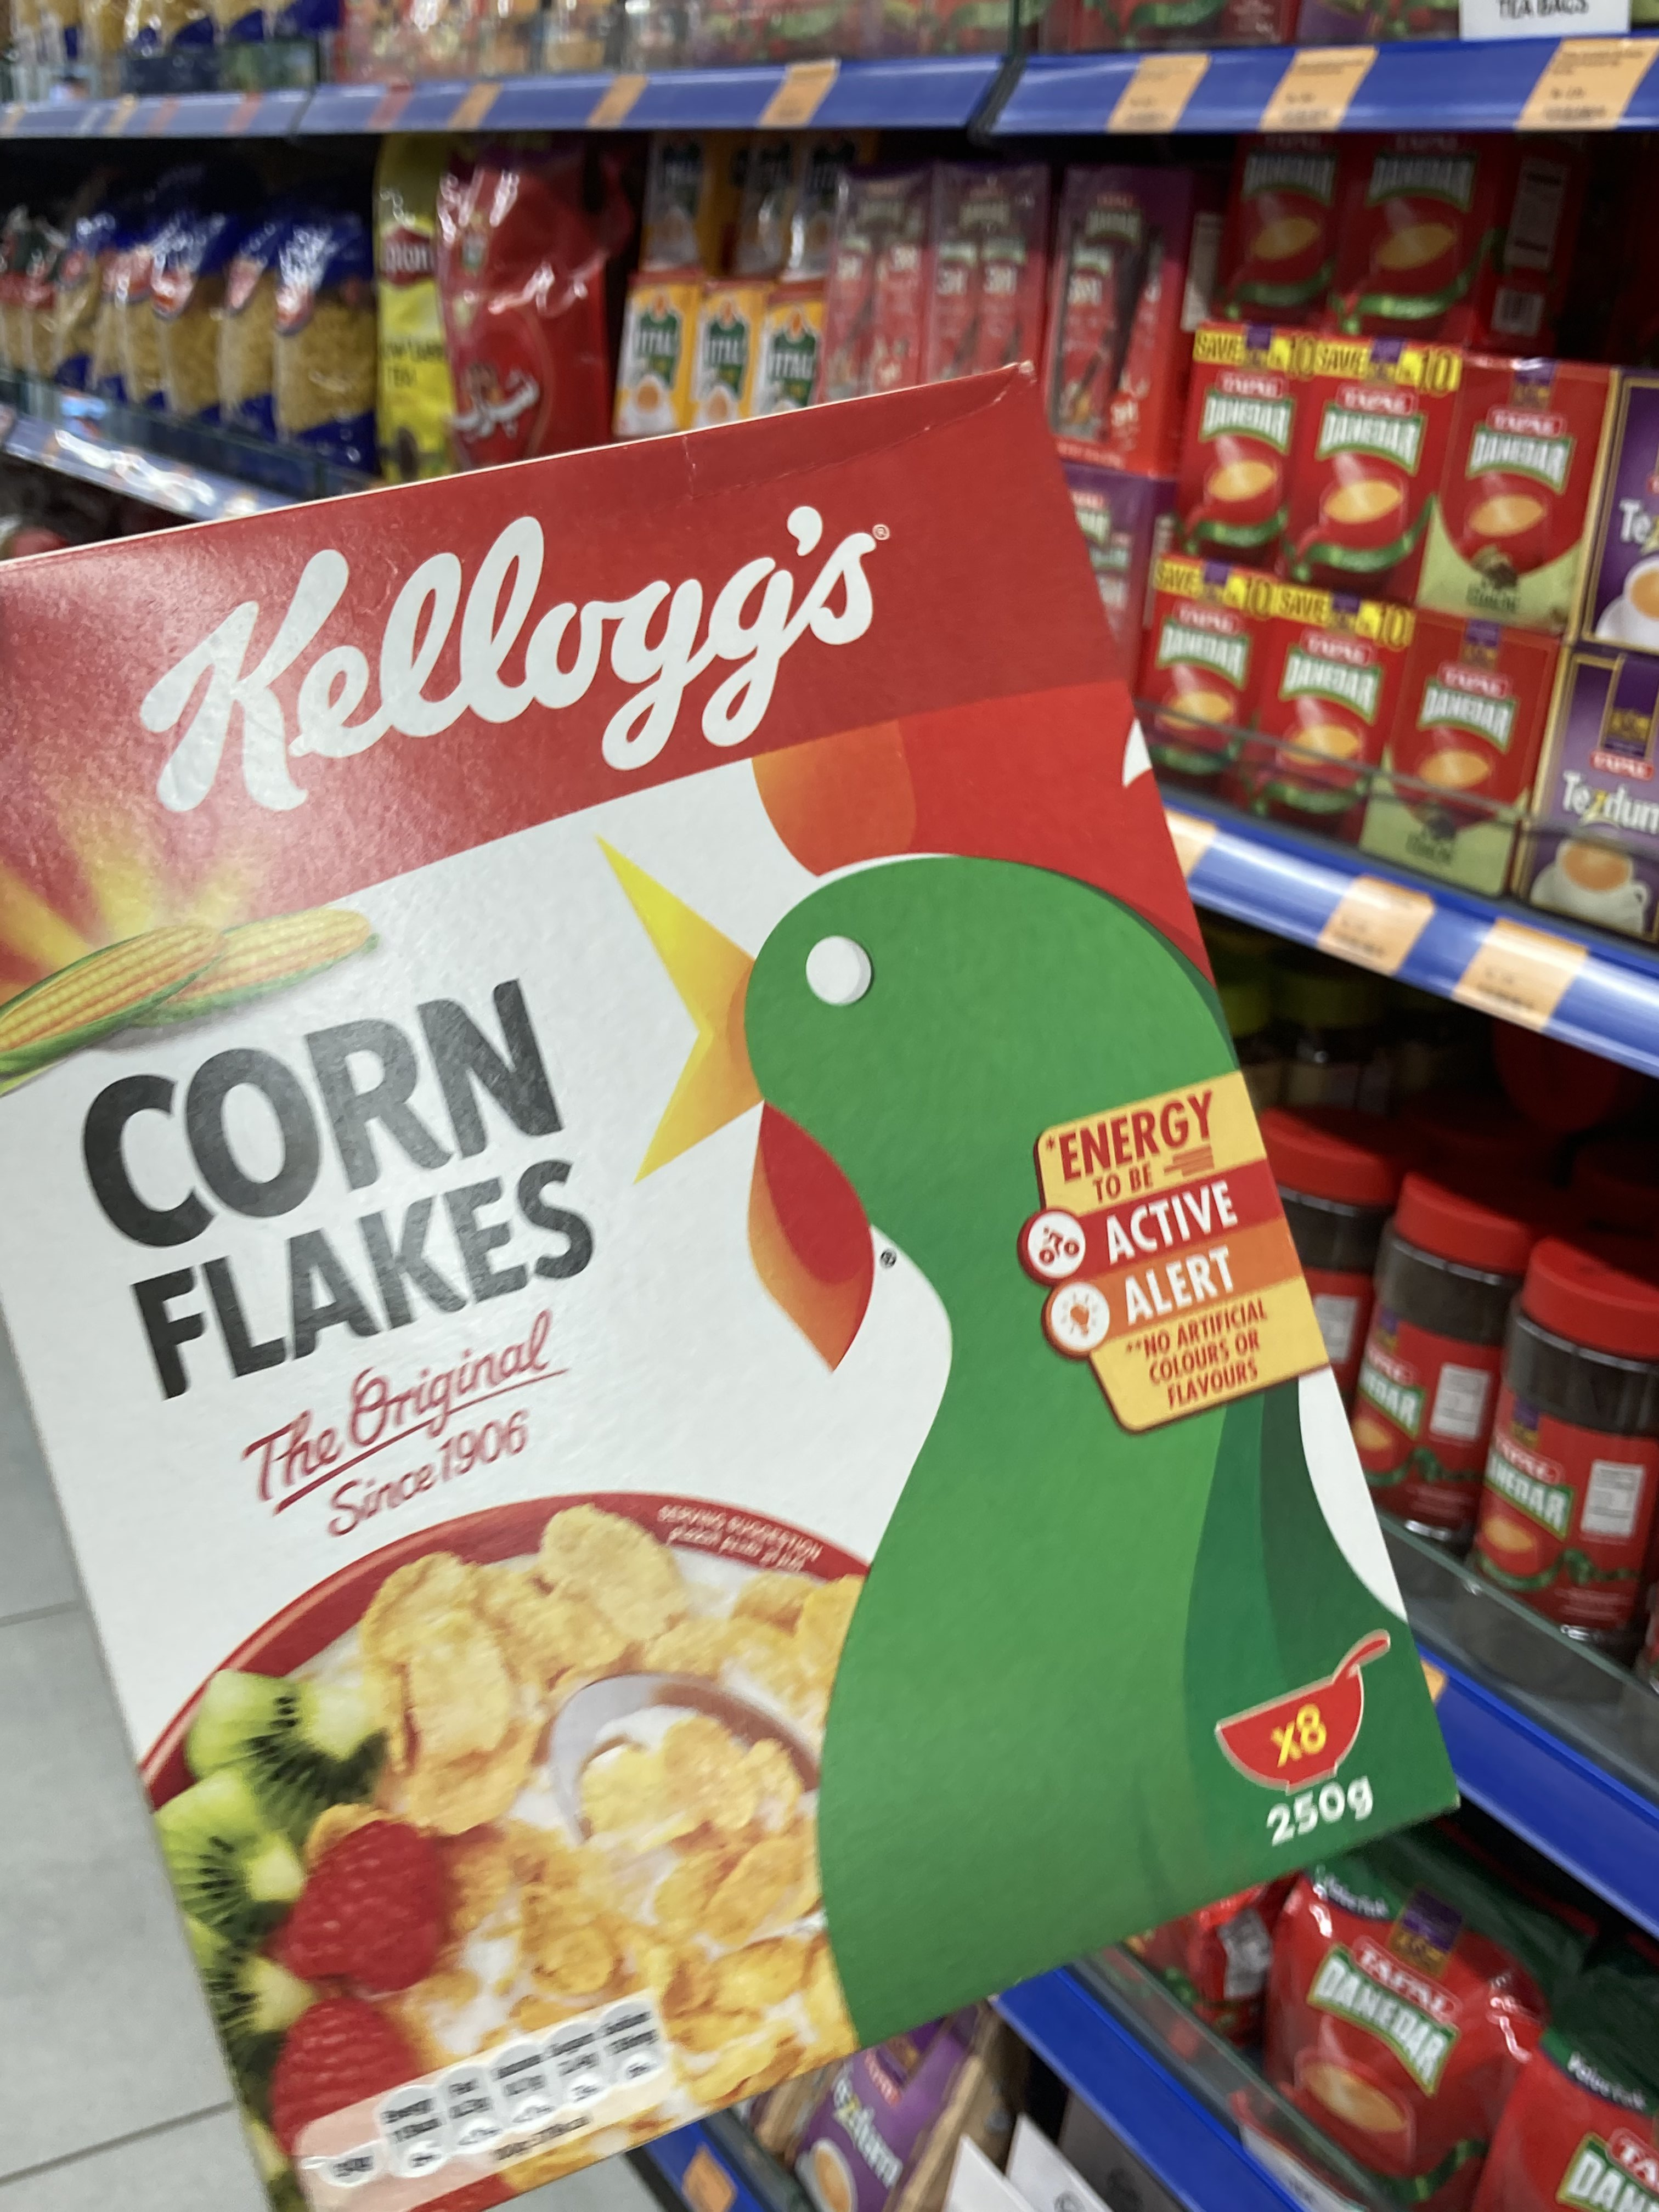Kellogg's Corn Flakes: (5, 355, 1469, 2210)
